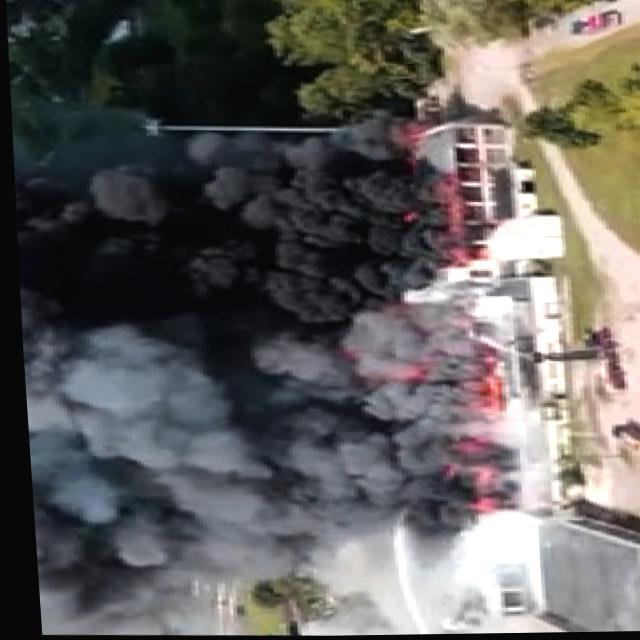smoke: (10, 188, 408, 563), (14, 262, 212, 637), (9, 160, 348, 360), (188, 292, 448, 523), (195, 169, 426, 347)
